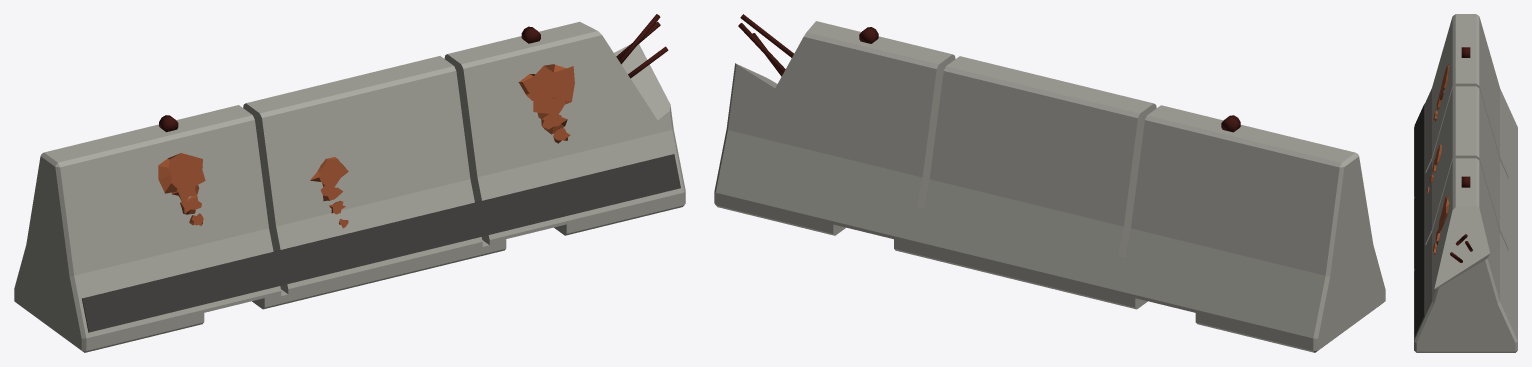
The model's file is barrier.glb.
The picture shows the model from 3 angles, left to right: view 1: azimuth 30°, elevation 25°; view 2: azimuth 150°, elevation 25°; view 3: azimuth 270°, elevation 25°; orthographic projection. The views are drawn at different scales.
Visible parts, largest first — view 1: barrier, splash, rust_1, rust_0, rust_2, bleed_1_0; view 2: barrier; view 3: barrier, splash, rust_1, rust_0, loop_1, loop_-1.
Boxes of the visible parts, left/top/right/bottom form: barrier: left=14, top=21, right=685, bottom=352; splash: left=82, top=154, right=680, bottom=332; rust_1: left=518, top=64, right=574, bottom=104; rust_0: left=158, top=153, right=205, bottom=193; rust_2: left=310, top=157, right=348, bottom=186; bleed_1_0: left=533, top=97, right=565, bottom=118; barrier: left=714, top=21, right=1385, bottom=352; barrier: left=1414, top=14, right=1517, bottom=352; splash: left=1414, top=104, right=1425, bottom=336; rust_1: left=1439, top=196, right=1449, bottom=232; rust_0: left=1440, top=64, right=1449, bottom=95; loop_1: left=1461, top=176, right=1470, bottom=187; loop_-1: left=1461, top=47, right=1470, bottom=57.
Bounding box in the file's own units: 3.04 × 0.865 × 0.61.
